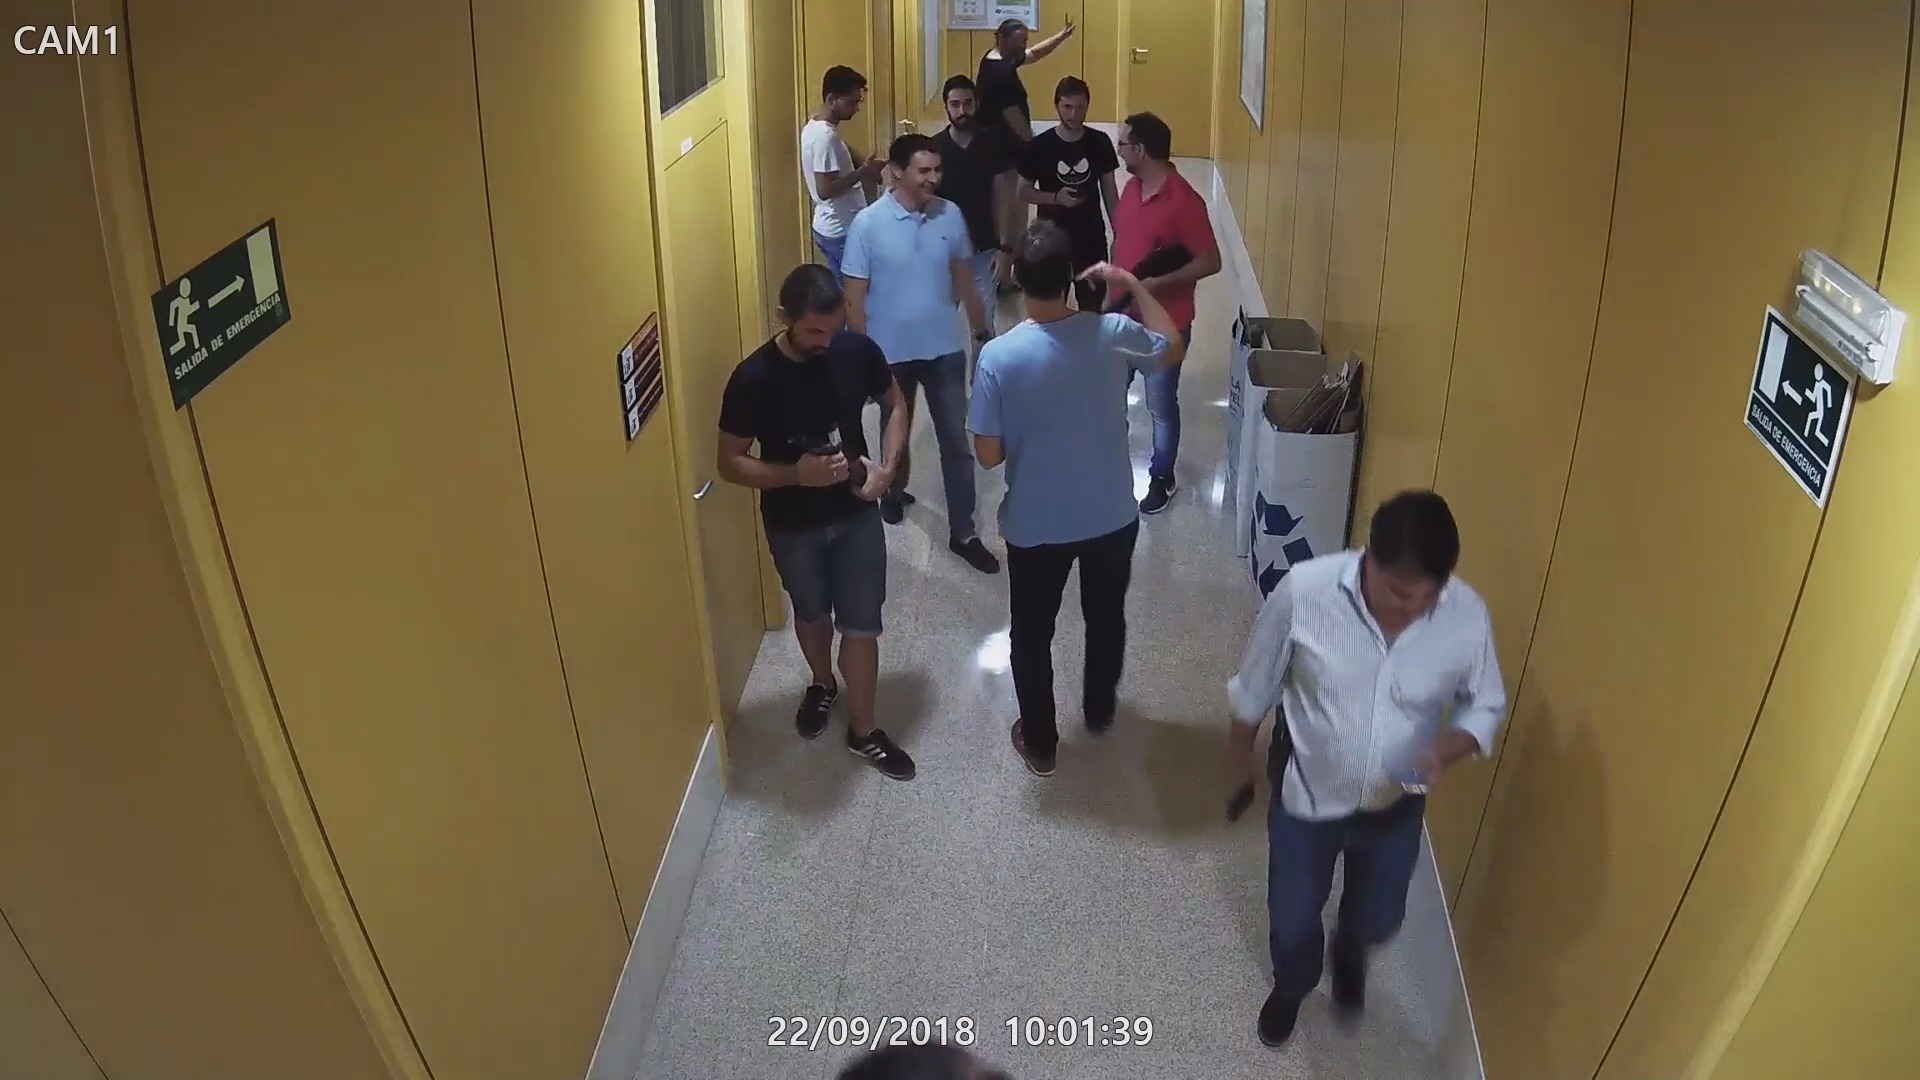Handgun: (1225, 745, 1269, 823)
Short_rifle: (785, 438, 924, 520), (1095, 237, 1199, 319)
